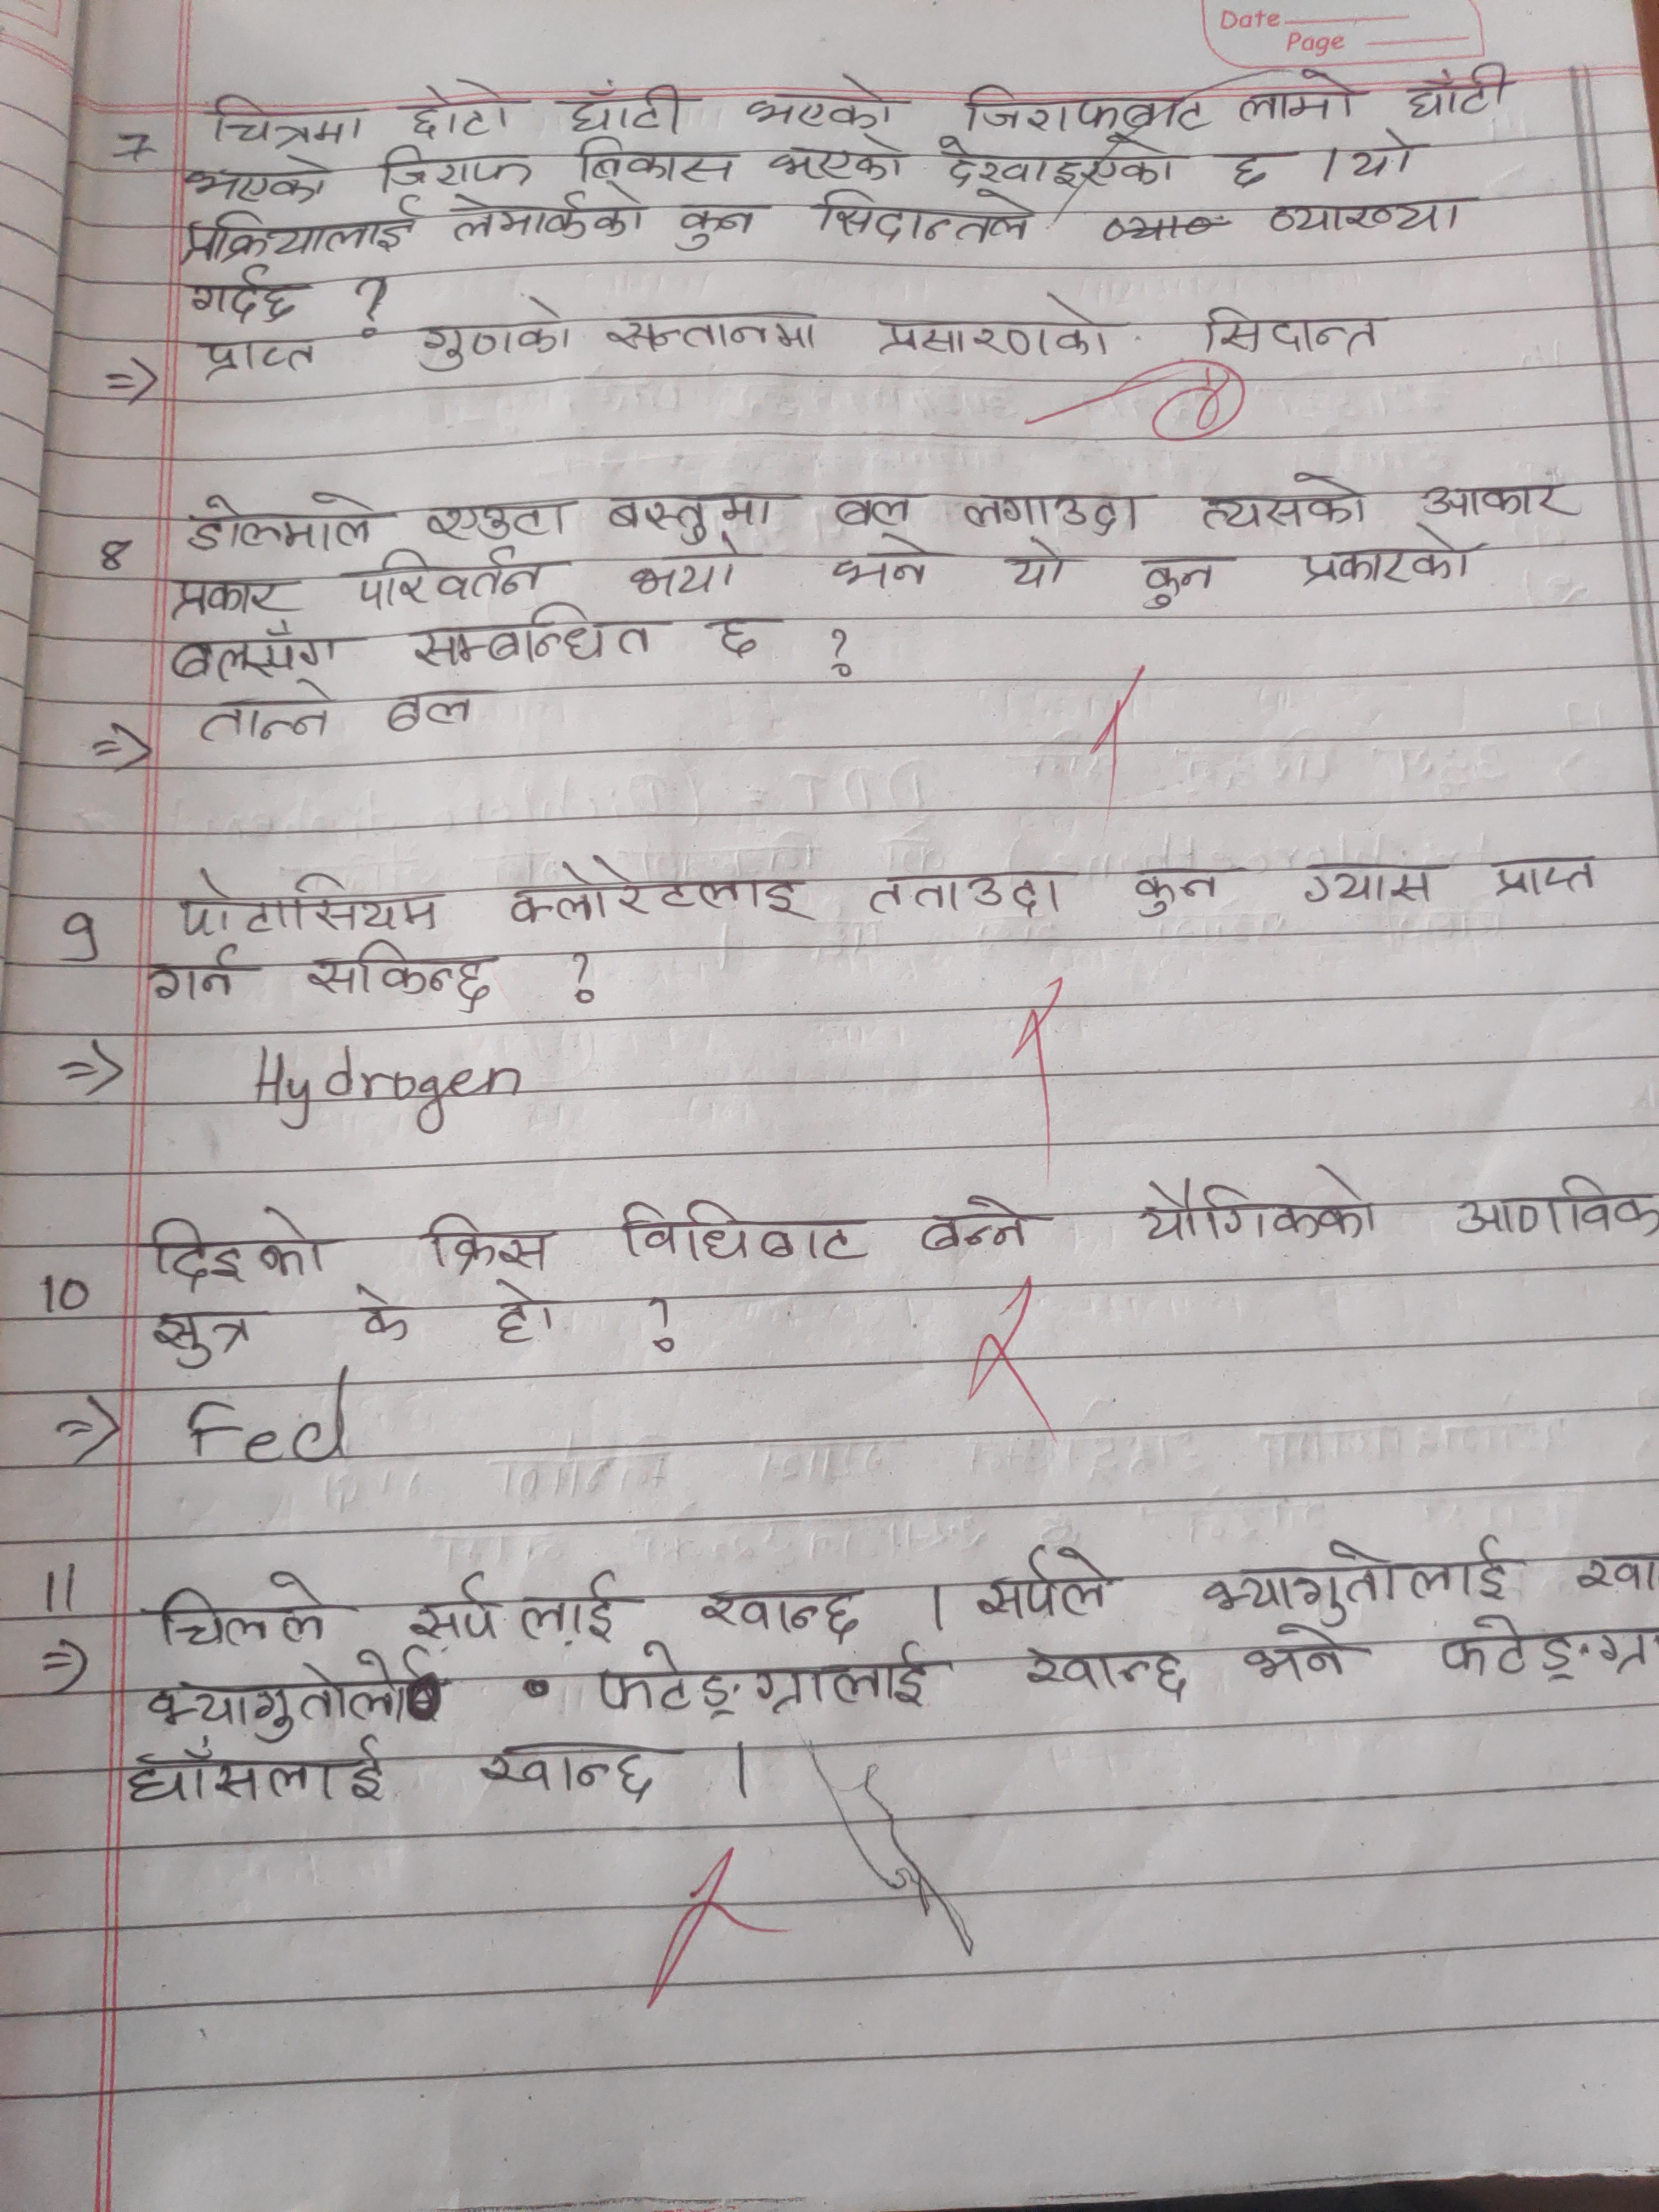text: (1195, 1536, 1521, 1616), (591, 1646, 945, 1717), (145, 1653, 415, 1740), (502, 855, 810, 927), (120, 1730, 394, 1806), (613, 1190, 866, 1271), (1136, 1163, 1385, 1244), (171, 867, 444, 939), (868, 291, 1121, 364), (401, 604, 676, 669), (809, 181, 1046, 254), (141, 1209, 343, 1294), (406, 1568, 627, 1642), (150, 1566, 333, 1651), (1448, 1174, 1659, 1244), (483, 1738, 681, 1810), (305, 930, 493, 1005), (1192, 463, 1384, 536), (1429, 1616, 1650, 1679), (958, 80, 1215, 134), (413, 291, 577, 374), (185, 489, 389, 556), (932, 136, 1180, 190), (171, 207, 425, 260), (340, 550, 549, 611), (964, 1541, 1124, 1620), (450, 185, 650, 246), (1202, 296, 1389, 361), (598, 305, 826, 357), (1018, 1641, 1195, 1707), (1290, 529, 1478, 589), (861, 867, 1066, 921), (162, 627, 352, 685), (601, 484, 784, 543), (699, 1580, 884, 1637), (422, 1207, 561, 1280), (209, 89, 366, 153), (369, 138, 540, 195), (563, 136, 742, 188), (193, 681, 345, 742), (958, 491, 1161, 536), (1262, 195, 1480, 237), (1239, 63, 1368, 132), (735, 77, 894, 132), (755, 136, 918, 188), (416, 495, 584, 543), (183, 158, 343, 209), (1398, 54, 1520, 120), (917, 1191, 1037, 1258), (1417, 474, 1568, 526), (626, 542, 756, 601), (145, 1305, 261, 1371), (1297, 859, 1446, 909), (183, 263, 303, 326), (1237, 1616, 1358, 1679), (193, 326, 326, 380), (1117, 864, 1237, 923), (404, 78, 516, 141), (558, 77, 690, 129), (1129, 543, 1227, 611), (146, 939, 247, 1003), (1486, 846, 1603, 902), (162, 571, 293, 620), (830, 536, 936, 594), (486, 1275, 561, 1353), (1568, 1547, 1659, 1609), (995, 536, 1075, 604), (338, 1278, 418, 1346), (831, 479, 922, 538), (383, 686, 483, 738), (673, 195, 756, 251), (701, 603, 774, 665), (1347, 127, 1419, 183), (1222, 145, 1279, 193)
